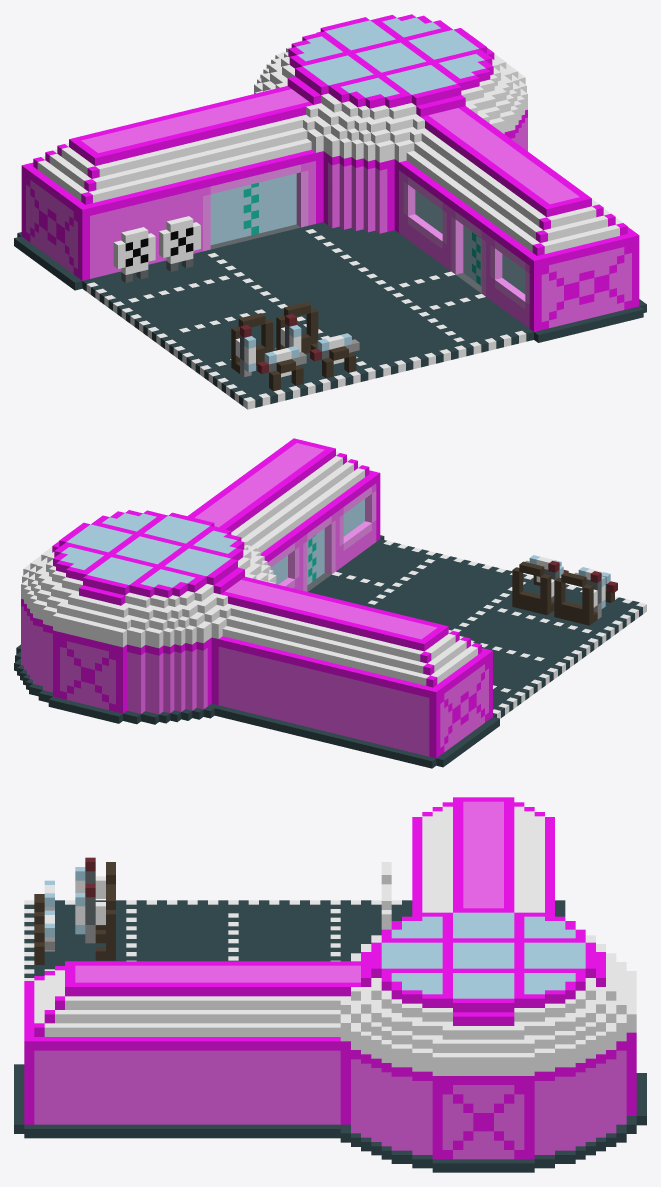
Rendered from barracks.obj.
3 renders of one model, top to bottom at view 1: azimuth 30°, elevation 25°; view 2: azimuth 150°, elevation 25°; view 3: azimuth 270°, elevation 25°, orthographic. The views are drawn at different scales.
Size of the model in its own units: 6.2 by 1.6 by 6.2.
1 material, 1 textured.
